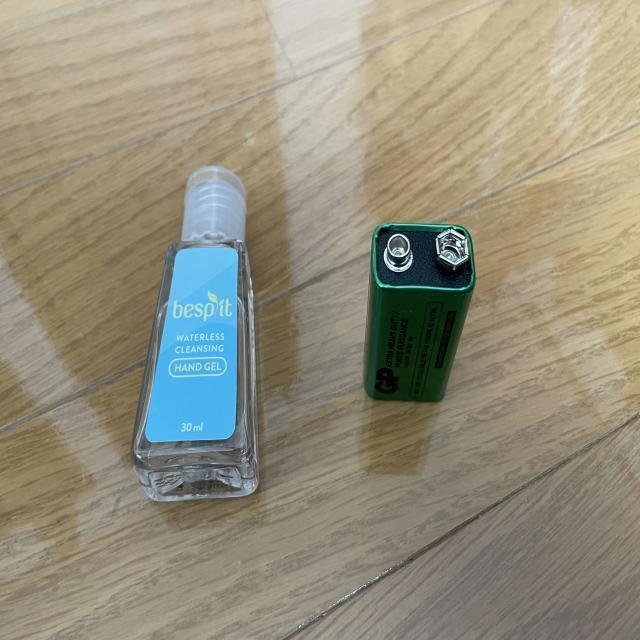9V: (363, 223, 477, 404)
